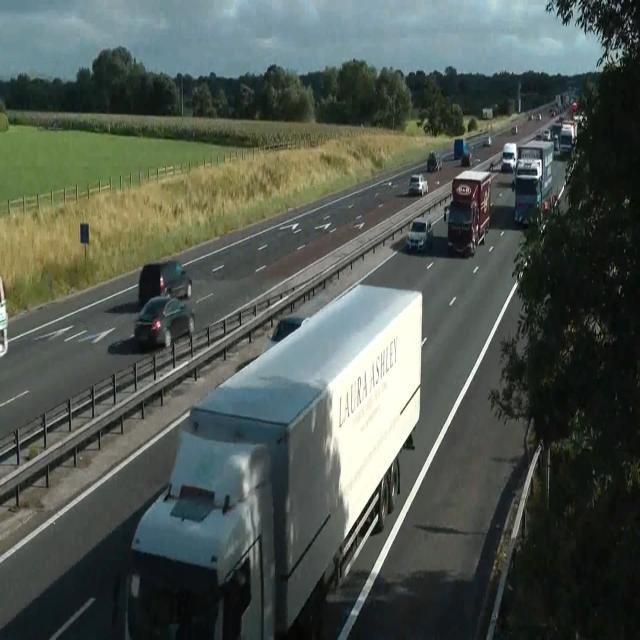bus: (133, 295, 195, 349), (264, 314, 308, 353), (0, 276, 8, 358), (408, 174, 428, 196), (426, 150, 442, 172), (443, 204, 450, 222), (483, 135, 491, 147), (511, 126, 517, 134)
car: (125, 281, 423, 637)
jeep: (138, 258, 192, 308), (406, 217, 434, 253), (501, 142, 516, 172)
minibus: (444, 169, 492, 257), (512, 140, 554, 226), (541, 123, 561, 153), (560, 120, 576, 153), (454, 138, 471, 165), (482, 107, 492, 119)
